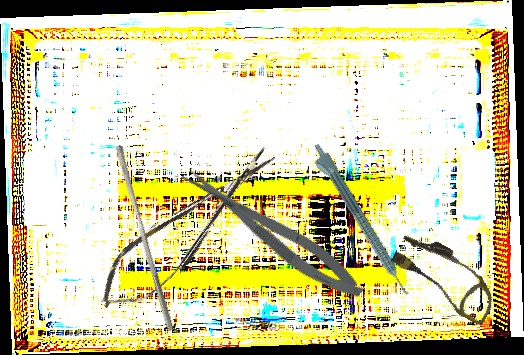Cannula: (384, 226, 507, 327)
Handpiece: (305, 141, 412, 302)
Micro Scissor: (84, 136, 292, 323), (176, 154, 371, 310)
Pusher: (108, 144, 182, 332)
